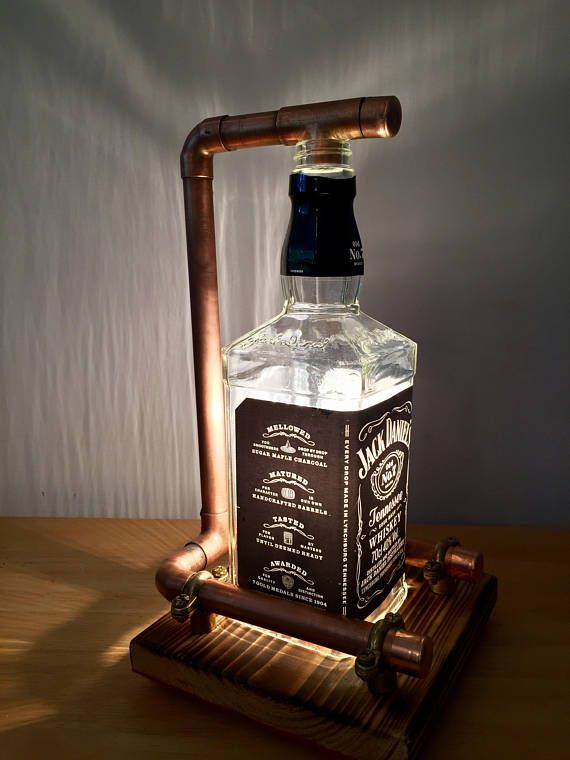Jack Daniel: (214, 128, 433, 665)
